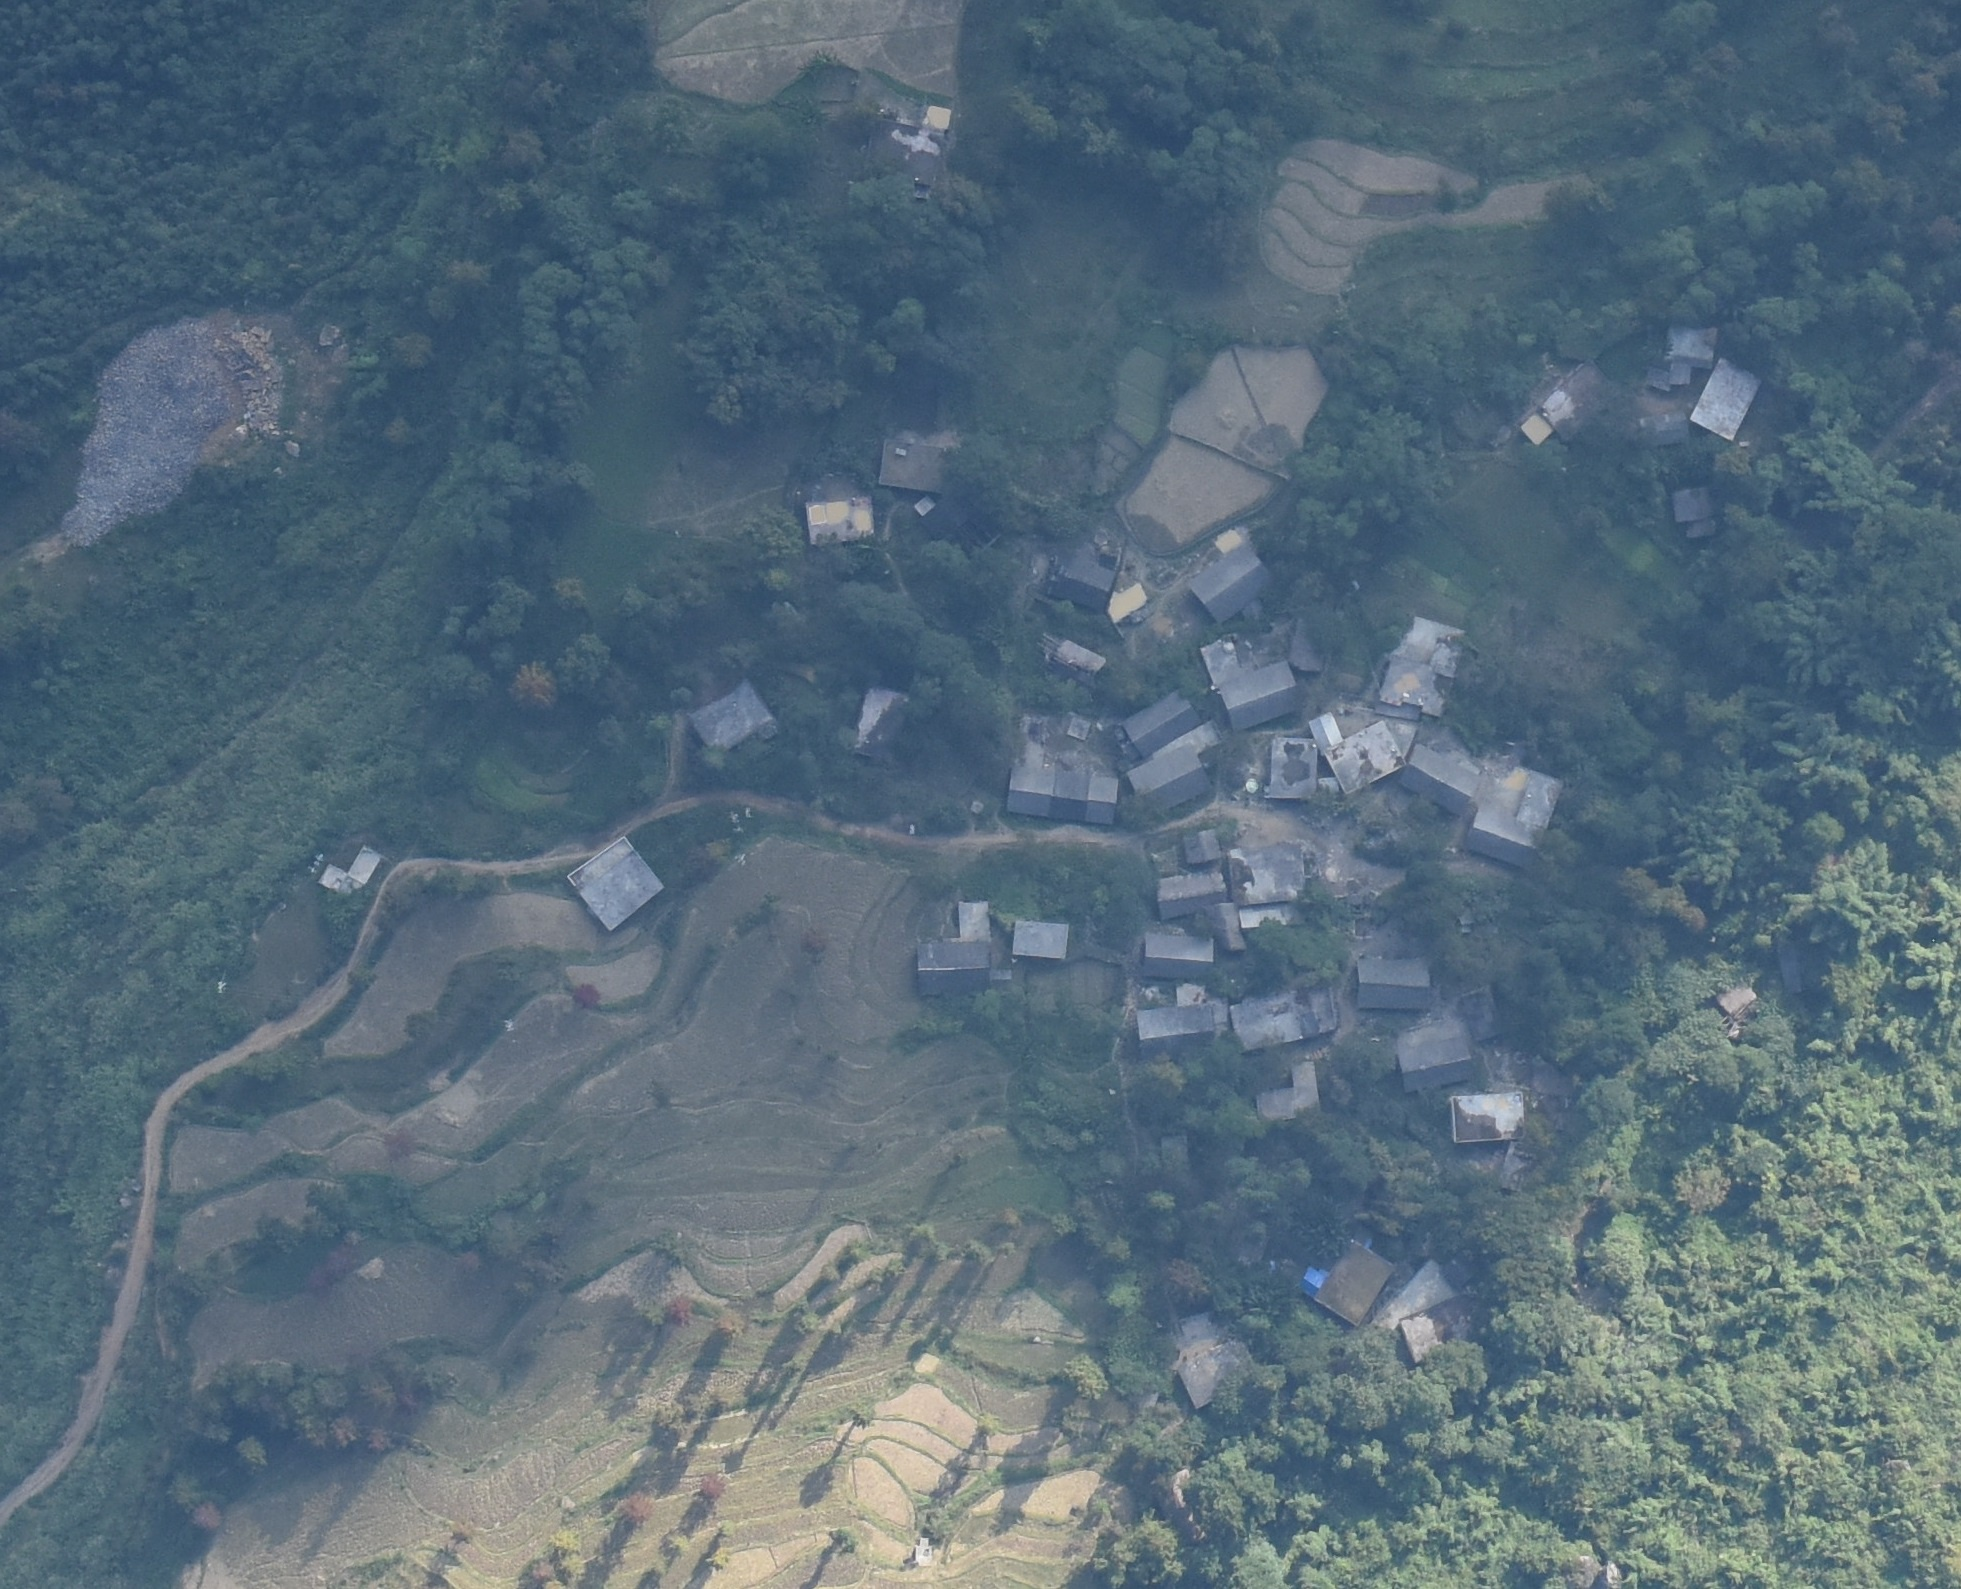building: (569, 833, 669, 927), (1475, 764, 1562, 863), (1309, 710, 1405, 794), (1395, 1261, 1476, 1359), (1006, 760, 1120, 820), (1185, 543, 1266, 623), (1233, 984, 1339, 1044), (1232, 843, 1309, 924), (1301, 1248, 1387, 1321), (1215, 658, 1301, 728), (1178, 1341, 1266, 1407), (1694, 358, 1763, 438), (1403, 743, 1478, 816), (1130, 752, 1215, 814), (1121, 691, 1199, 756), (690, 687, 770, 749), (1378, 650, 1447, 718), (1352, 957, 1433, 1013), (1651, 324, 1716, 392), (1254, 1064, 1326, 1125), (1131, 1004, 1219, 1052), (856, 683, 909, 759), (1446, 1094, 1527, 1145), (1395, 1038, 1475, 1088), (878, 439, 953, 493), (1139, 932, 1214, 983), (912, 940, 990, 987), (1151, 874, 1228, 918), (1052, 555, 1117, 606), (804, 496, 874, 543), (1269, 738, 1319, 801), (1776, 926, 1823, 992), (319, 848, 382, 893), (1011, 916, 1070, 962), (1669, 486, 1723, 535), (1522, 396, 1577, 443), (1049, 636, 1104, 678), (1713, 978, 1760, 1021), (1638, 410, 1689, 448), (1178, 829, 1224, 863), (956, 898, 992, 940), (1211, 900, 1241, 949), (925, 104, 951, 130)
quarry: (45, 315, 311, 548)
